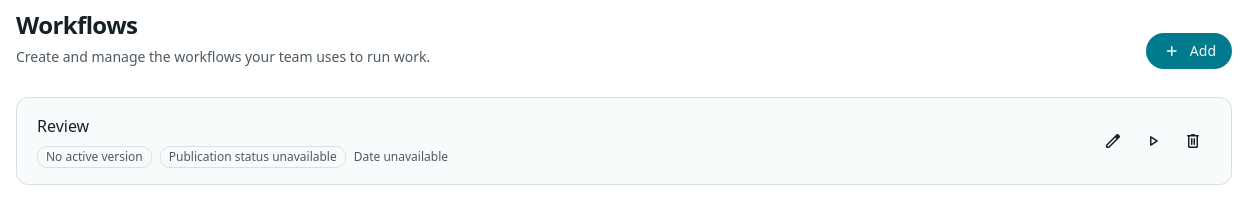
Test: workflow list › supplements the row Edit action with a tooltip without replacing its accessible name
Hover over the link named "Edit" at coordinates (1113, 141), box [1103, 129, 1123, 153]
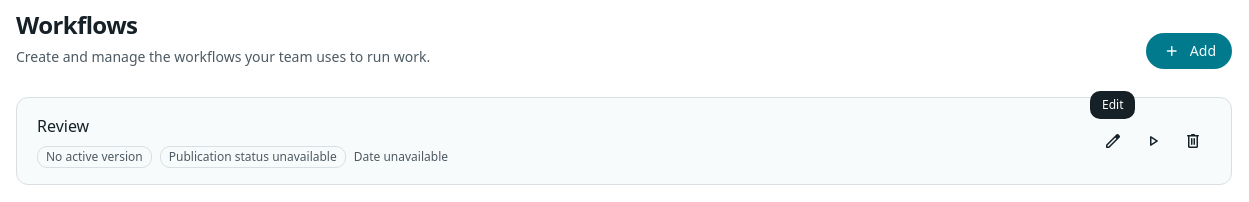
expect the tooltip reads "Edit": met, box [1102, 96, 1124, 113]
